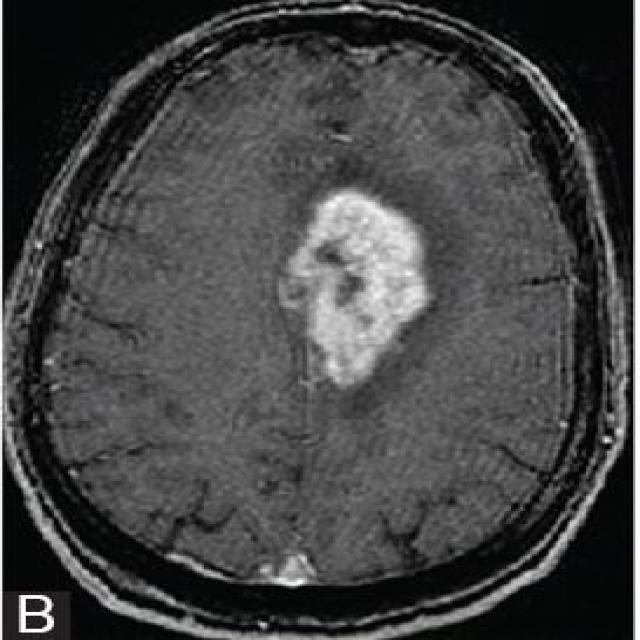tumor: (279, 188, 437, 382)
